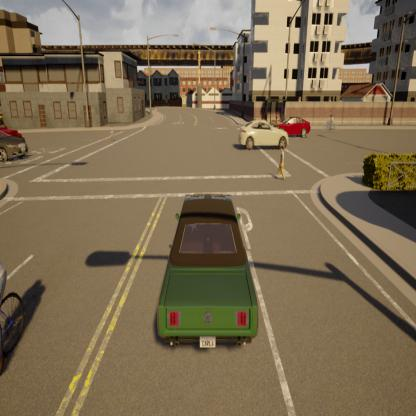Cars: (158, 188, 260, 364), (0, 262, 25, 383), (239, 118, 290, 152), (0, 122, 26, 159), (276, 115, 311, 140), (322, 108, 339, 138)
Pedestrian: (275, 143, 288, 182)
